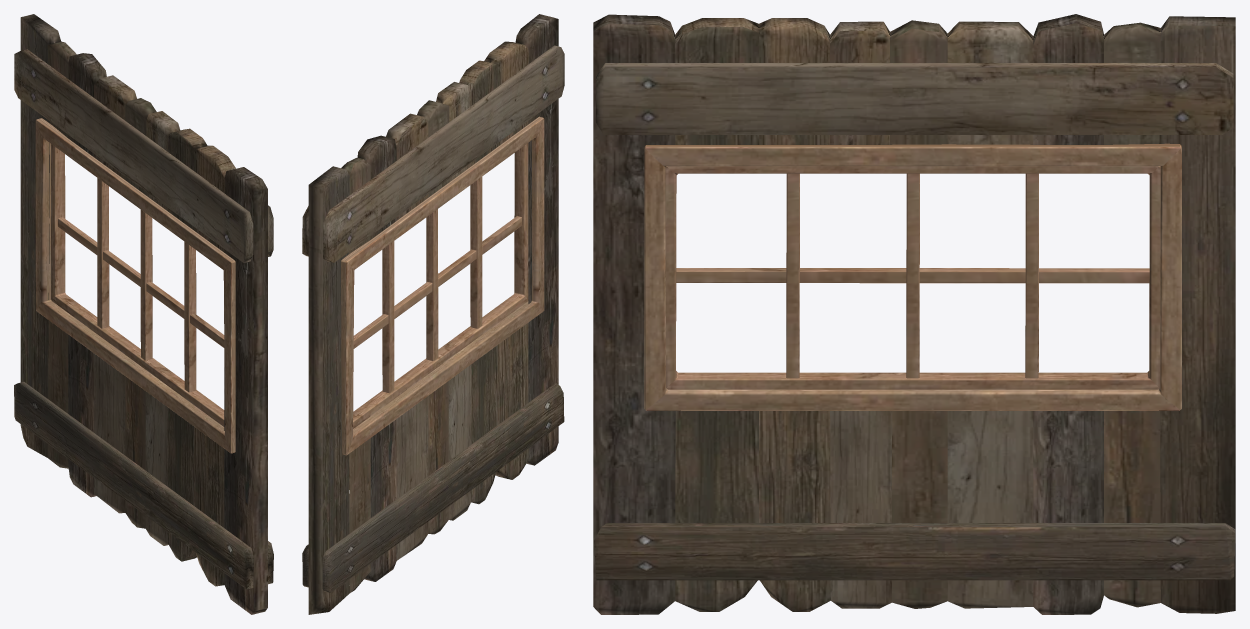
The model's file is cabin_window_a.glb.
3 views of the same model, side by side, from view 1: azimuth 30°, elevation 25°; view 2: azimuth 150°, elevation 25°; view 3: azimuth 270°, elevation 25° (orthographic). The views are drawn at different scales.
Visible parts, largest first — view 1: cabin_window_a; view 2: cabin_window_a; view 3: cabin_window_a.
Boxes of the visible parts, bbox=[...] form: cabin_window_a: bbox=[14, 14, 273, 614]; cabin_window_a: bbox=[302, 14, 564, 614]; cabin_window_a: bbox=[593, 14, 1235, 614].
Size of the model in its own units: 0.2016 by 3.04 by 2.99.
Materials: 2 (2 with a texture image).
